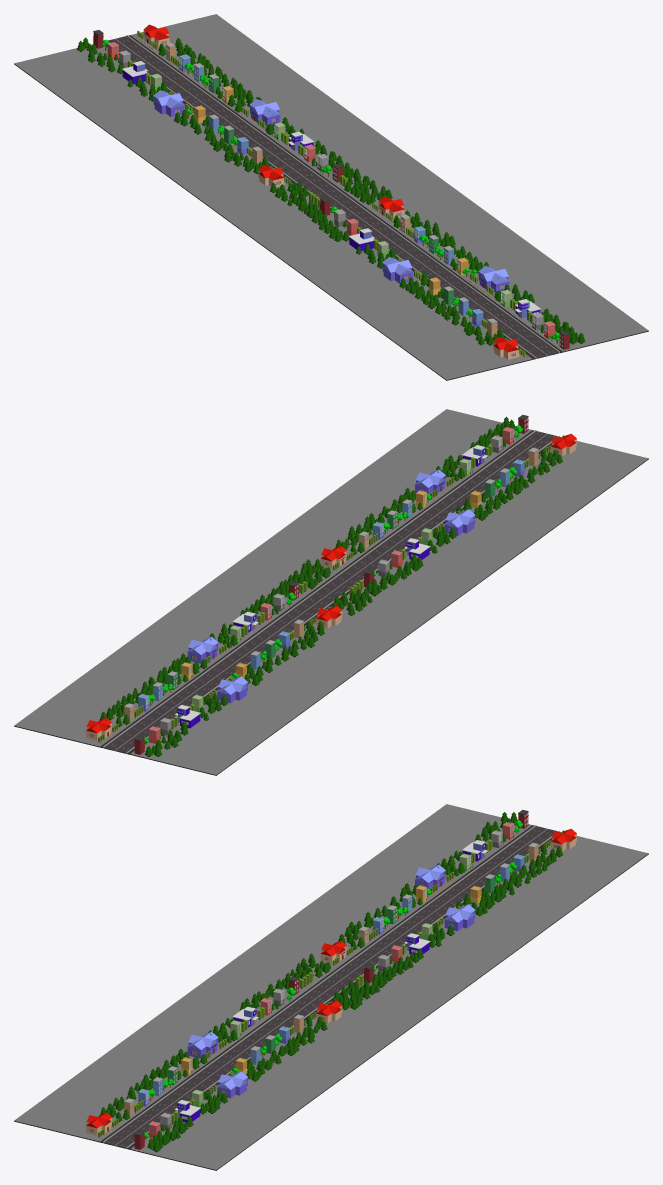
Rendered from ALL.fbx.
The picture shows the model from 3 angles, top to bottom: view 1: azimuth 30°, elevation 25°; view 2: azimuth 150°, elevation 25°; view 3: azimuth 330°, elevation 25°; orthographic projection.
Parts seen in each view (by area): view 1: Building; view 2: Building; view 3: Building.
Boxes of the visible parts, box(x1,y1,x2,y2) form: Building: box(14, 14, 648, 380); Building: box(14, 409, 648, 775); Building: box(14, 804, 648, 1170).
Bounding box in the file's own units: 2700 × 198 × 9998.
